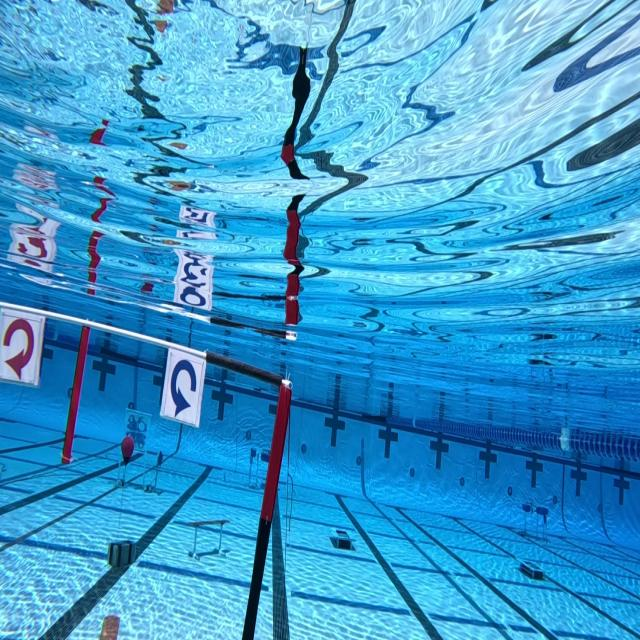blue_side: (159, 344, 208, 428)
red_side: (0, 311, 44, 388)
